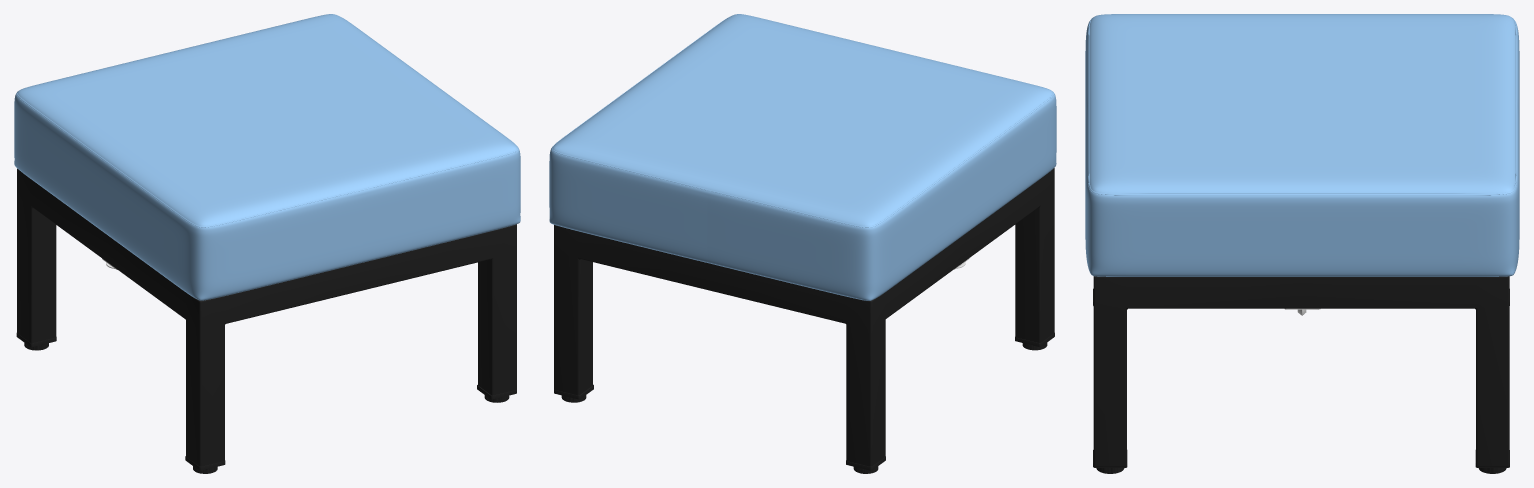
File: simple_section.glb
3 views of the same model, side by side, from view 1: azimuth 30°, elevation 25°; view 2: azimuth 150°, elevation 25°; view 3: azimuth 270°, elevation 25° (orthographic). The views are drawn at different scales.
Visible parts, largest first — view 1: Cube.058, Cube.062, Cube.073, Cube.075; view 2: Cube.058, Cube.062, Cube.073, Cube.075; view 3: Cube.058, Cube.062, Cube.073.
Boxes of the visible parts, <box> form: Cube.058: <box>17,14,517,226</box>; Cube.062: <box>14,18,520,300</box>; Cube.073: <box>17,168,516,466</box>; Cube.075: <box>16,333,516,470</box>; Cube.058: <box>552,14,1053,226</box>; Cube.062: <box>549,18,1056,300</box>; Cube.073: <box>554,168,1054,466</box>; Cube.075: <box>554,333,1054,470</box>; Cube.058: <box>1089,14,1515,193</box>; Cube.062: <box>1085,18,1519,276</box>; Cube.073: <box>1093,276,1509,466</box>.
Size of the model in its own units: 0.6444 by 0.4776 by 0.6475.
